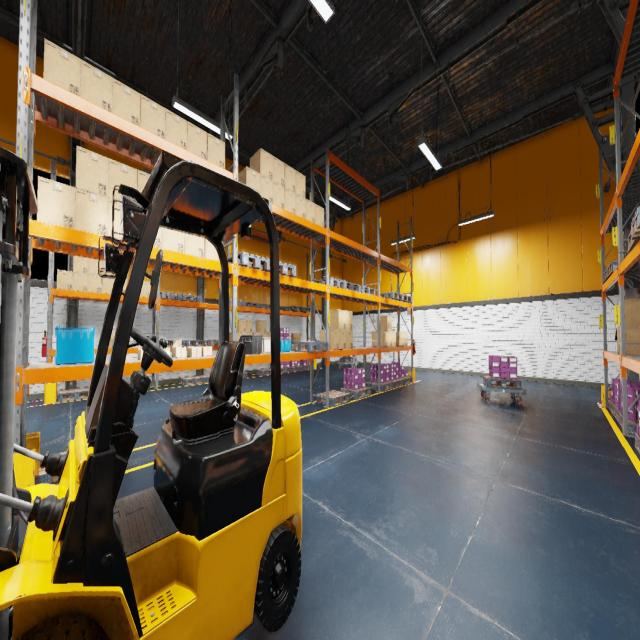box: (43, 38, 81, 96), (37, 176, 75, 229), (75, 146, 109, 198), (80, 59, 112, 112), (75, 188, 108, 235), (112, 78, 140, 126), (108, 158, 137, 202), (140, 94, 165, 139), (165, 108, 188, 150), (187, 121, 207, 159), (250, 148, 273, 180), (618, 298, 640, 327), (207, 133, 225, 168), (238, 166, 260, 194), (162, 228, 184, 253), (108, 198, 120, 239), (184, 233, 204, 257), (625, 326, 640, 355), (205, 238, 223, 261), (320, 329, 338, 350), (260, 174, 273, 203), (273, 156, 285, 187), (329, 309, 346, 329), (273, 181, 285, 209), (56, 270, 72, 290), (284, 188, 296, 214), (285, 164, 296, 192), (72, 272, 88, 291), (137, 170, 150, 192), (296, 170, 306, 198), (73, 256, 88, 274), (376, 315, 392, 331), (296, 193, 306, 218), (88, 274, 101, 293), (172, 339, 186, 356), (88, 258, 102, 275), (372, 331, 387, 346), (306, 198, 315, 223), (115, 278, 128, 294), (102, 277, 115, 293), (315, 204, 324, 227), (102, 260, 115, 275), (153, 227, 162, 248), (140, 281, 151, 297), (396, 332, 408, 346), (187, 346, 201, 357), (108, 330, 116, 348), (339, 330, 346, 349), (199, 346, 212, 356), (346, 310, 352, 330), (256, 320, 266, 332), (237, 319, 246, 332), (346, 330, 352, 349), (616, 327, 620, 353), (160, 347, 170, 356), (229, 332, 239, 341), (291, 333, 301, 341), (387, 331, 392, 346), (246, 320, 252, 332), (138, 348, 143, 360), (392, 331, 396, 346), (239, 332, 246, 338), (614, 328, 616, 340), (260, 333, 266, 337), (266, 333, 270, 337), (126, 272, 128, 278), (620, 327, 620, 353)
forklift: (0, 146, 302, 640)
pallets: (38, 451, 66, 485), (227, 252, 270, 271), (316, 390, 350, 406), (263, 261, 296, 277), (483, 376, 521, 389), (58, 387, 90, 402), (619, 413, 638, 436), (291, 341, 328, 352), (314, 276, 346, 288), (341, 387, 371, 399), (631, 207, 640, 240), (607, 260, 623, 278), (367, 381, 394, 391), (628, 230, 640, 252), (180, 376, 206, 385), (340, 282, 360, 292), (380, 291, 402, 300), (160, 291, 182, 300), (354, 286, 375, 295), (159, 340, 186, 347), (181, 294, 200, 302), (389, 378, 404, 388), (613, 405, 620, 423), (634, 433, 640, 454), (398, 376, 412, 385), (186, 340, 207, 346), (256, 368, 271, 375), (397, 295, 411, 302), (285, 306, 303, 311), (244, 302, 259, 308), (204, 340, 218, 346), (230, 300, 244, 306), (289, 366, 303, 372), (609, 399, 614, 415), (340, 357, 356, 362), (296, 404, 302, 416), (280, 367, 292, 373), (603, 268, 608, 282), (259, 303, 270, 309), (201, 375, 210, 382), (299, 307, 310, 312), (300, 365, 310, 370), (243, 372, 247, 378), (628, 249, 629, 254)
